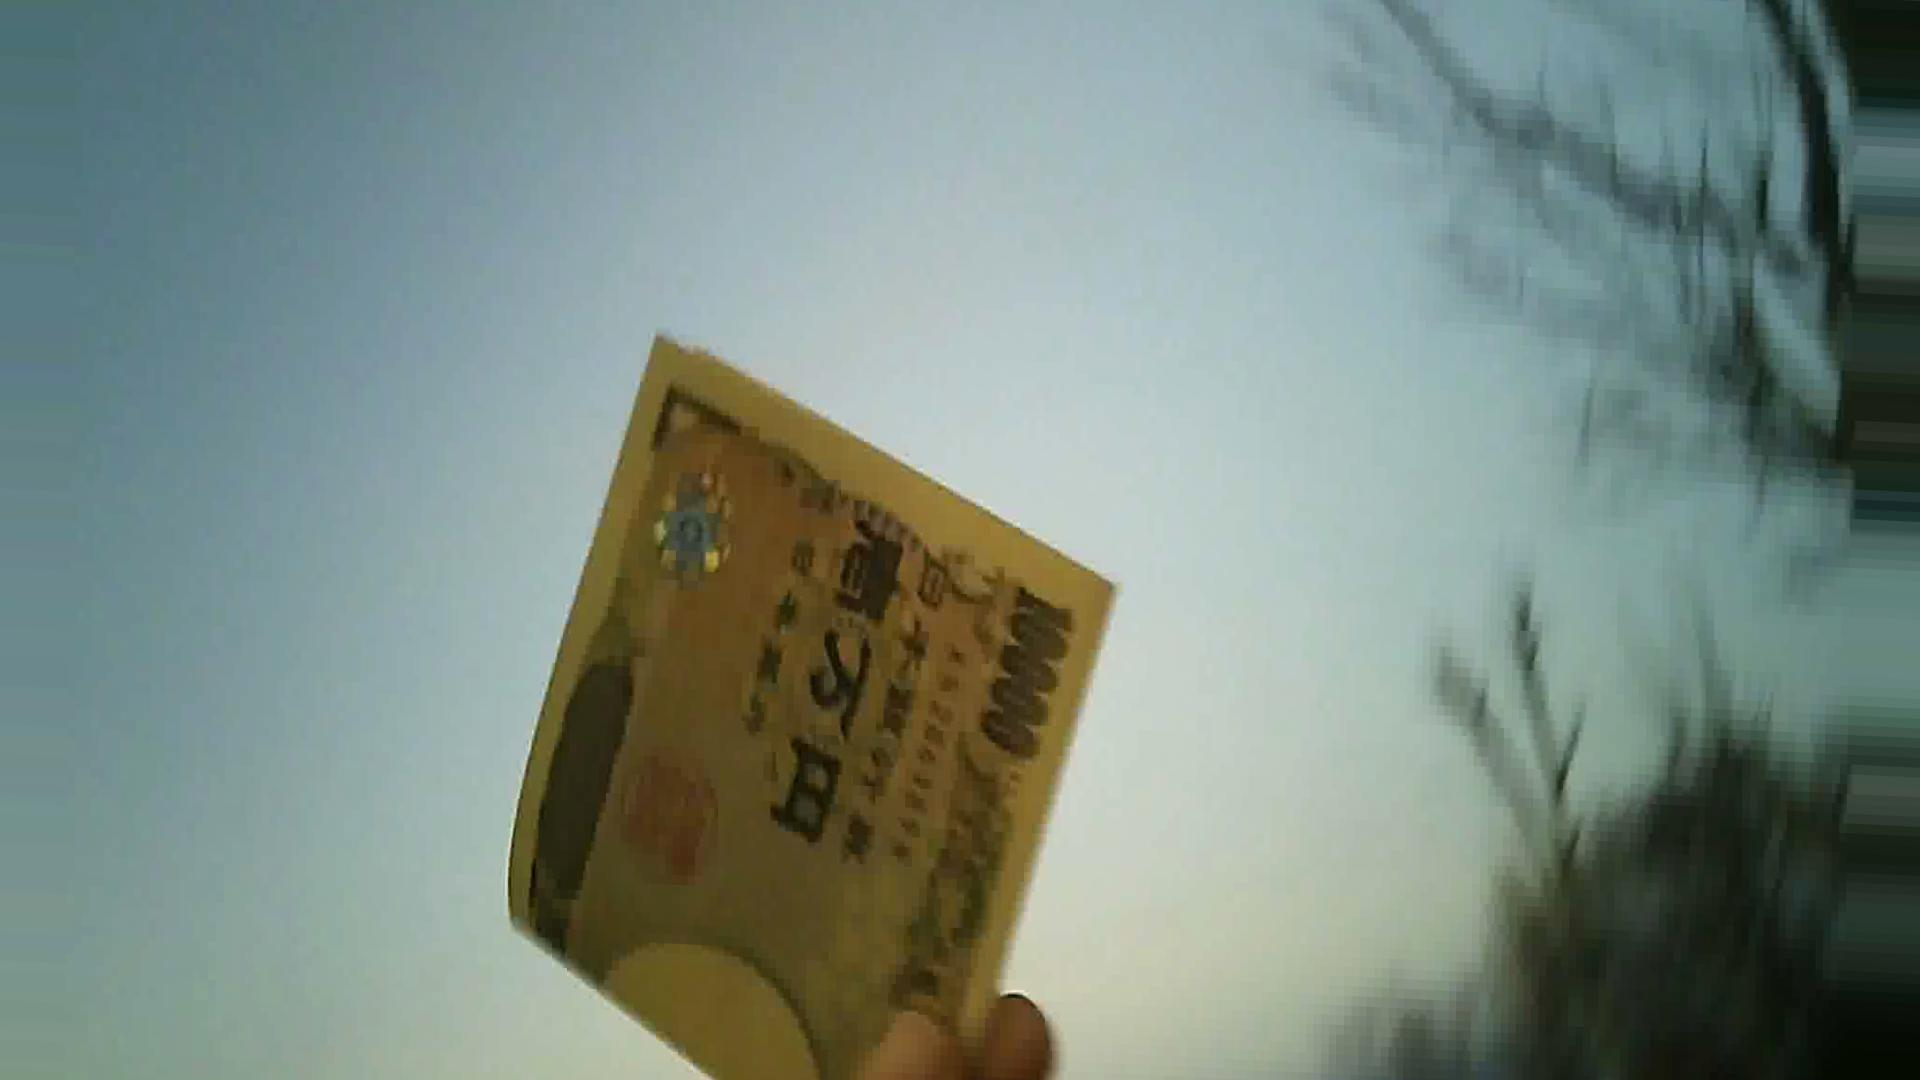10,000 Yen: (475, 326, 1106, 1079)
